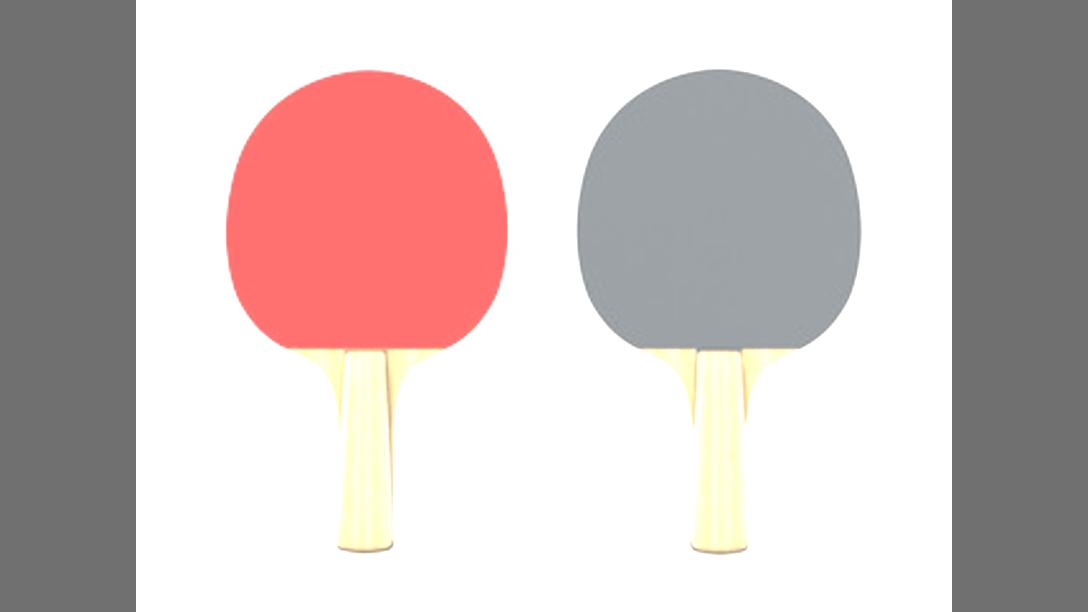Table-Tennis-Ball: (497, 472, 581, 560)
